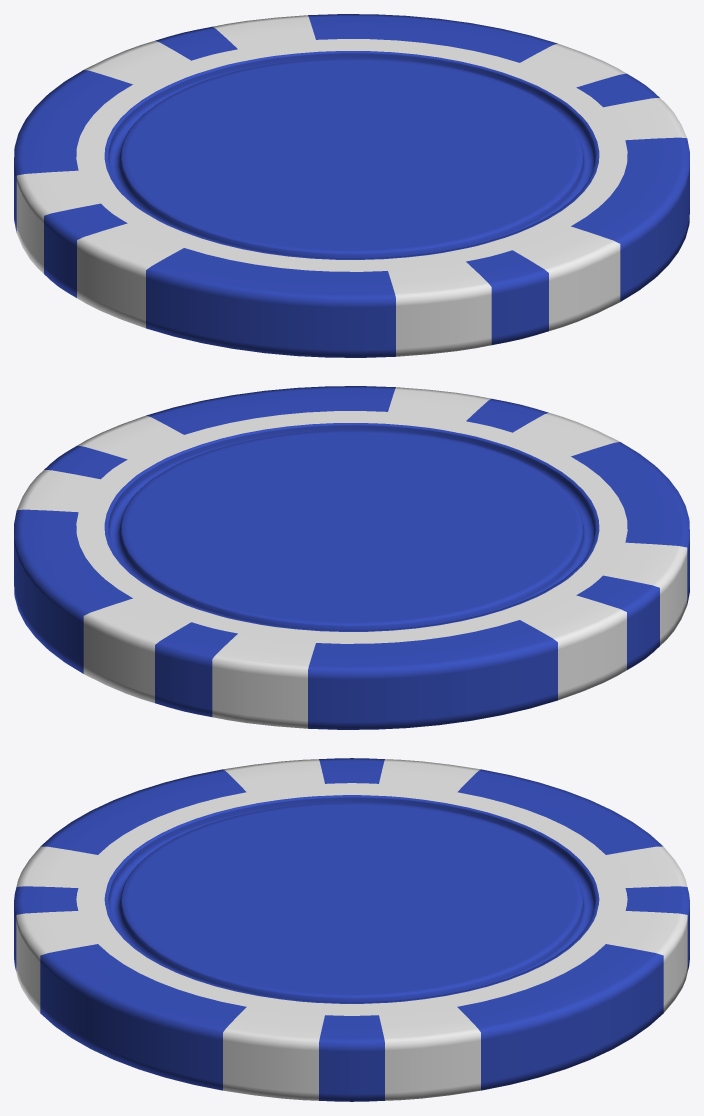
The model's file is Chip_Blue.glb.
3 views of the same model, one above another, from view 1: azimuth 30°, elevation 25°; view 2: azimuth 150°, elevation 25°; view 3: azimuth 270°, elevation 25° (orthographic).
Visible parts, largest first — view 1: Chip; view 2: Chip; view 3: Chip.
Boxes of the visible parts, bbox=[...] form: Chip: bbox=[14, 14, 689, 357]; Chip: bbox=[14, 386, 689, 729]; Chip: bbox=[14, 758, 689, 1101].
Bounding box in the file's own units: 2 × 0.1988 × 2.
